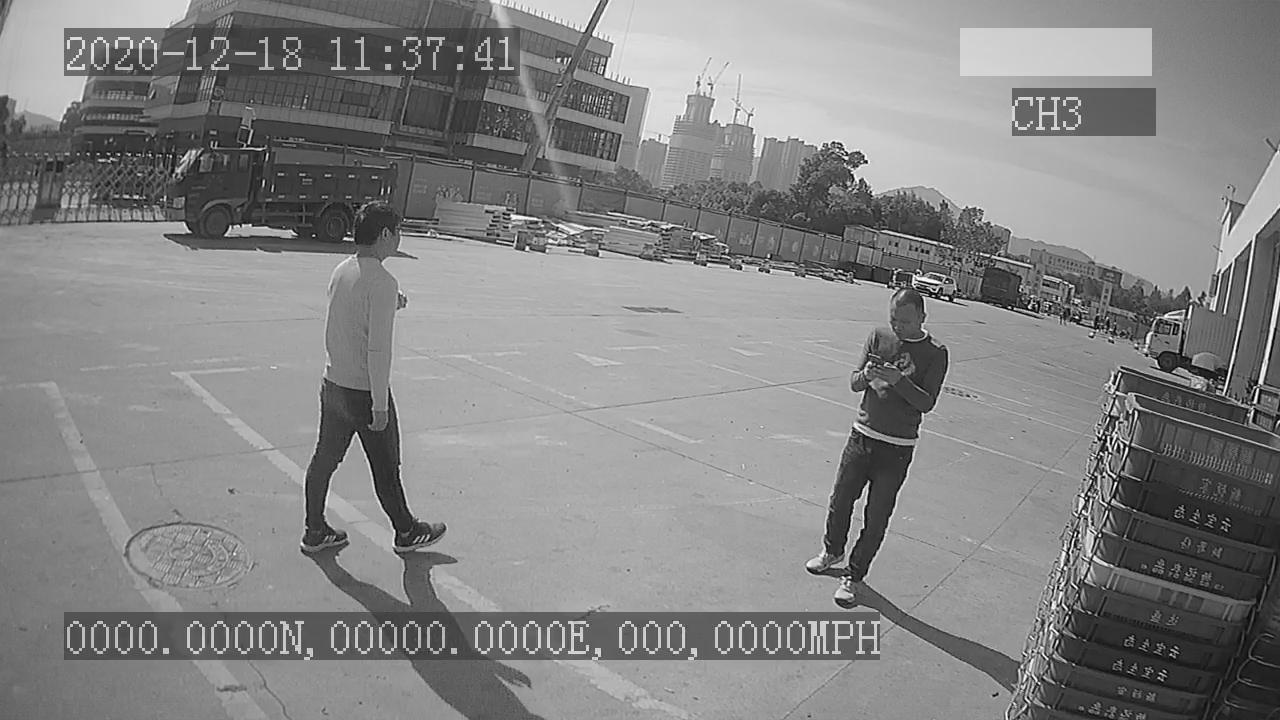person: (805, 283, 949, 608)
